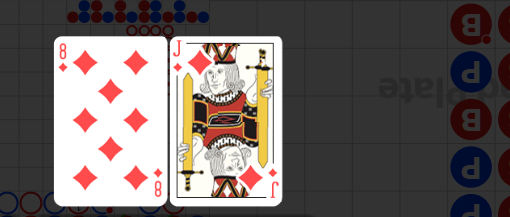8D: (152, 166, 164, 198)
JD: (268, 167, 281, 200)
